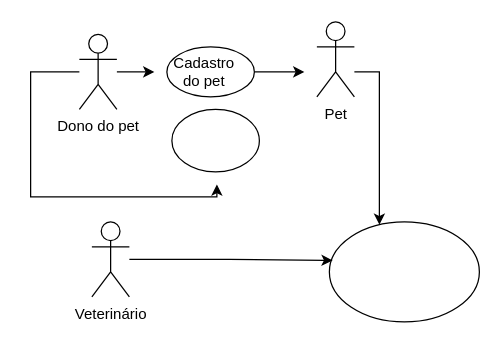
Image size: 501x345. Some labels were removed from this diagram. Each missing label, with the box of its shape:
Consulta: (328, 221, 479, 322)
Pedido da consulta: (171, 108, 259, 172)
